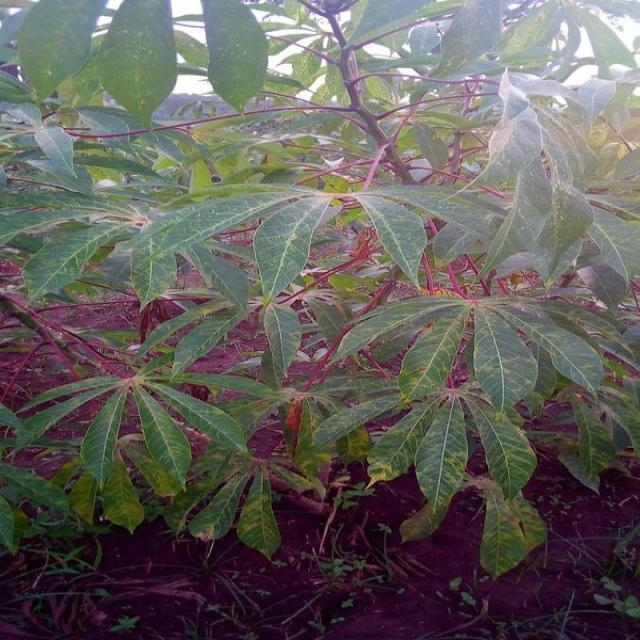cassava leaf: (2, 1, 640, 578), (97, 0, 179, 130), (253, 191, 333, 303)
